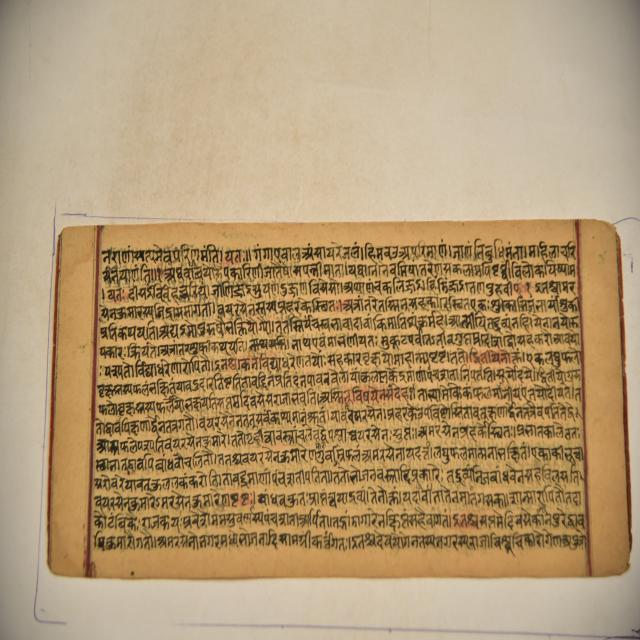text_paragraph: (45, 223, 627, 573)
